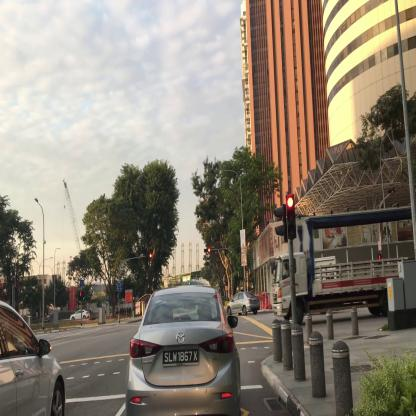red_traffic_light: (285, 195, 297, 238), (145, 254, 152, 258), (204, 248, 210, 252)
